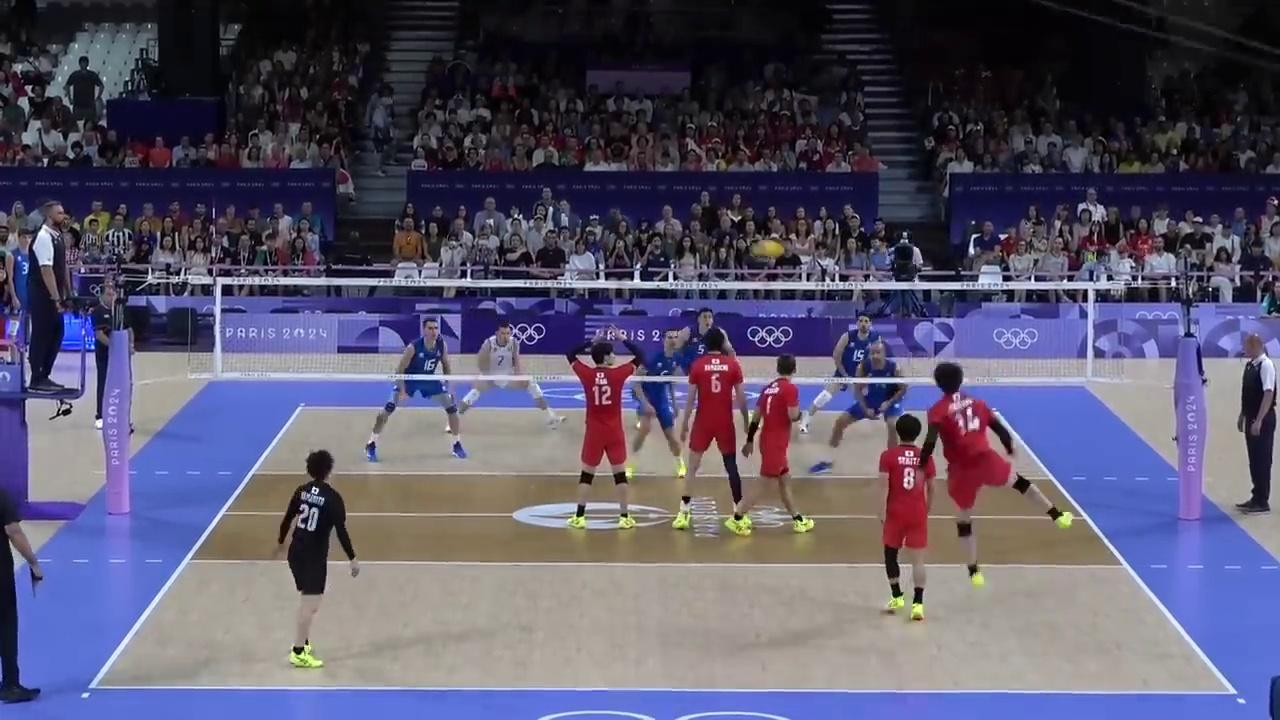ball: (754, 241, 783, 256)
